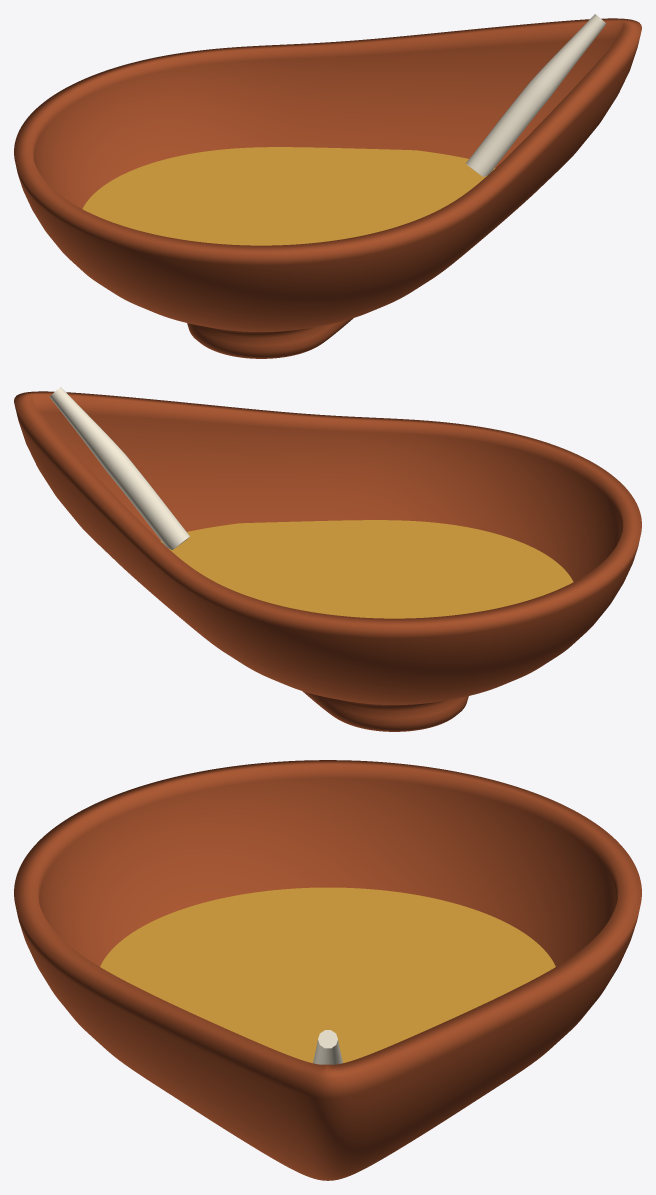
The model's file is diya.glb.
3 renders of one model, top to bottom at view 1: azimuth 30°, elevation 25°; view 2: azimuth 150°, elevation 25°; view 3: azimuth 270°, elevation 25°, orthographic. The views are drawn at different scales.
Parts seen in each view (by area): view 1: diya, oil, wick; view 2: diya, oil, wick; view 3: diya, oil, wick.
Part boxes in pixels (x1,y1,x2,y2): diya: [14, 18, 641, 358]; oil: [82, 147, 495, 245]; wick: [466, 14, 606, 176]; diya: [14, 391, 641, 731]; oil: [160, 520, 573, 618]; wick: [49, 387, 189, 549]; diya: [14, 760, 641, 1180]; oil: [100, 887, 555, 1063]; wick: [313, 1030, 342, 1064].
Size of the model in its own units: 2 by 0.7646 by 1.45.
